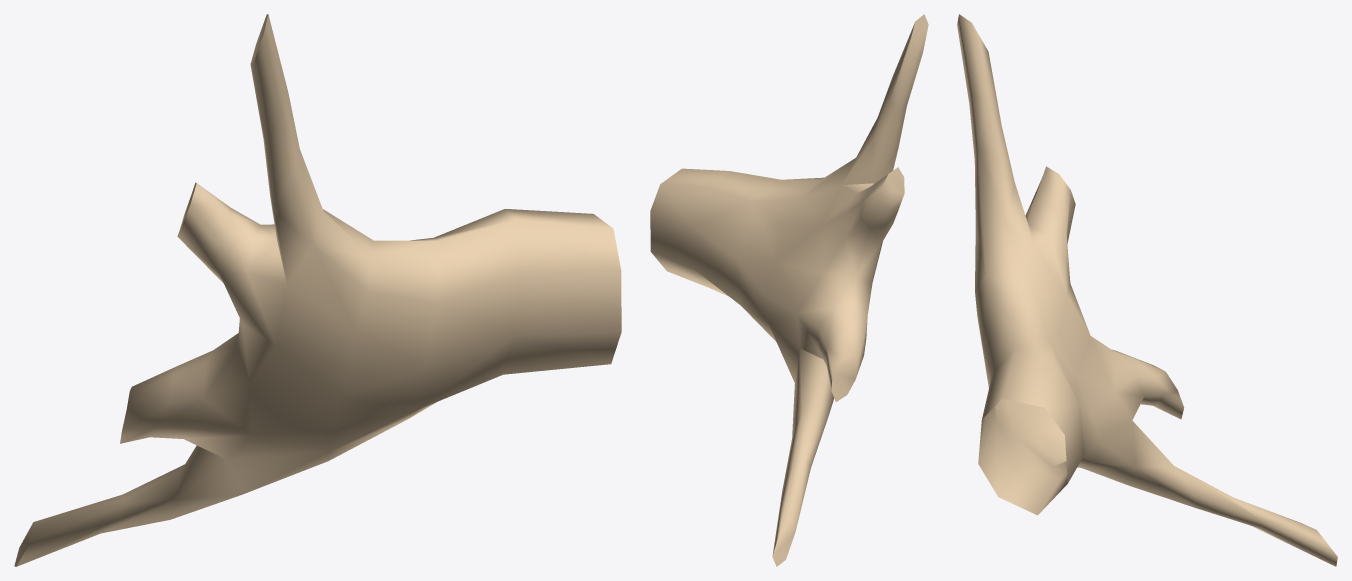
Rendered from L_B_Hypoglossal_Nerve01.fbx.
3 renders of one model, left to right at view 1: azimuth 30°, elevation 25°; view 2: azimuth 150°, elevation 25°; view 3: azimuth 270°, elevation 25°, orthographic. The views are drawn at different scales.
Visible parts, largest first — view 1: L_B_Hypoglossal_Nerve; view 2: L_B_Hypoglossal_Nerve; view 3: L_B_Hypoglossal_Nerve.
Boxes of the visible parts, x1,y1,x2,y2 form: L_B_Hypoglossal_Nerve: (14, 14, 621, 566); L_B_Hypoglossal_Nerve: (650, 14, 928, 566); L_B_Hypoglossal_Nerve: (957, 14, 1337, 566).
Size of the model in its own units: 0.327 by 0.5577 by 0.3471.
